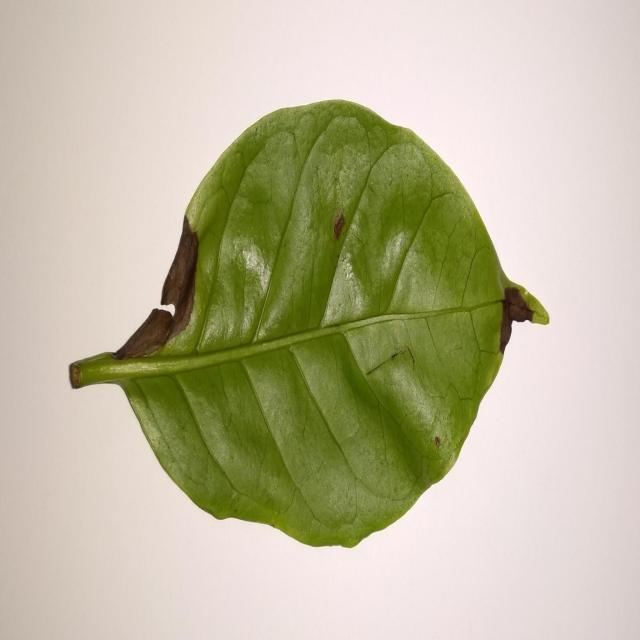Enfermedad-Antracnosis: (67, 100, 550, 552)
